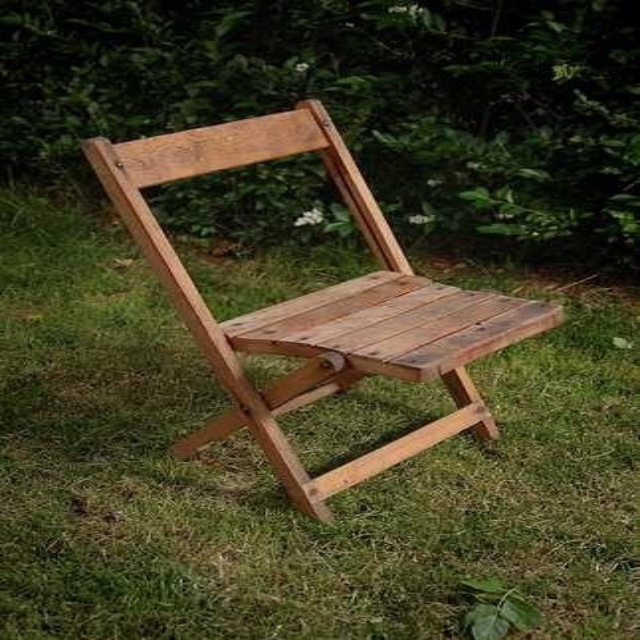obstacle: (83, 100, 561, 520)
